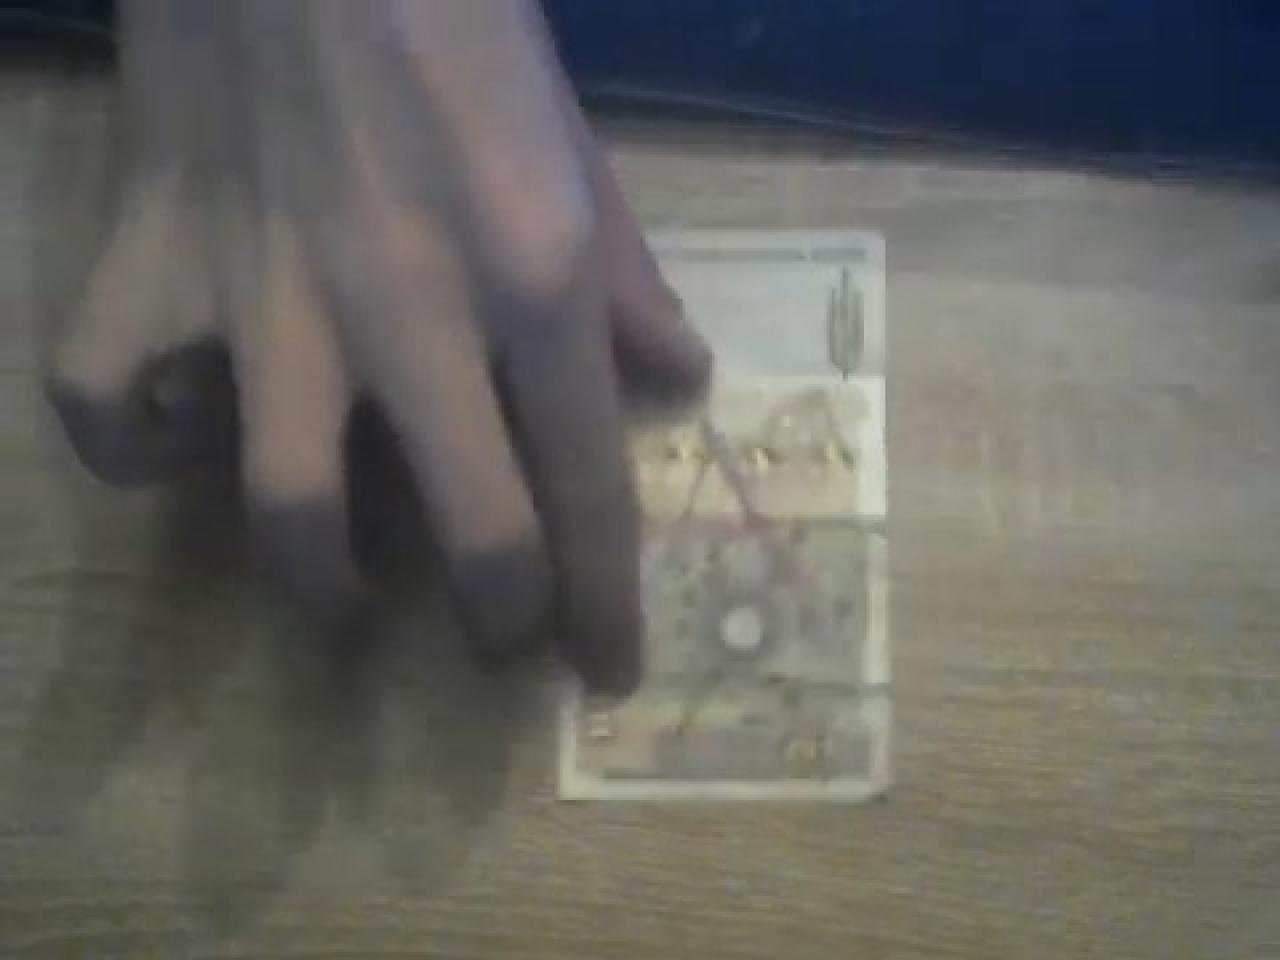10leva: (560, 229, 893, 808)
